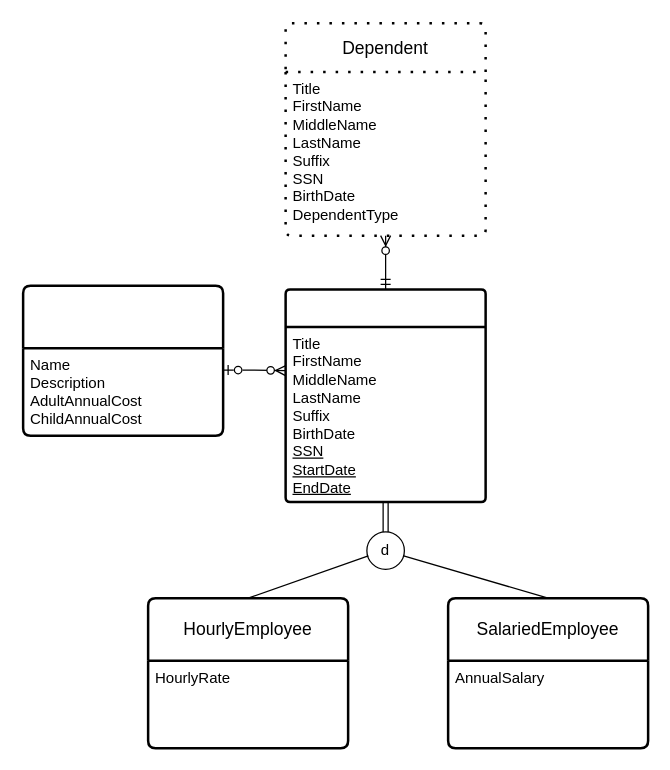
This 670x770 diagram has some shape labels left out. The shapes that lost their labels are listed below. From the top down, each one's box as (x1, y1, x2, y2) in pixels, then its label:
(21, 284, 224, 436): HealthPlan
(284, 288, 486, 502): Employee
